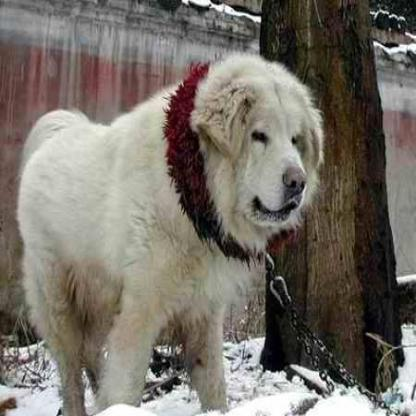Tibetan_mastiff: (15, 52, 324, 414)
